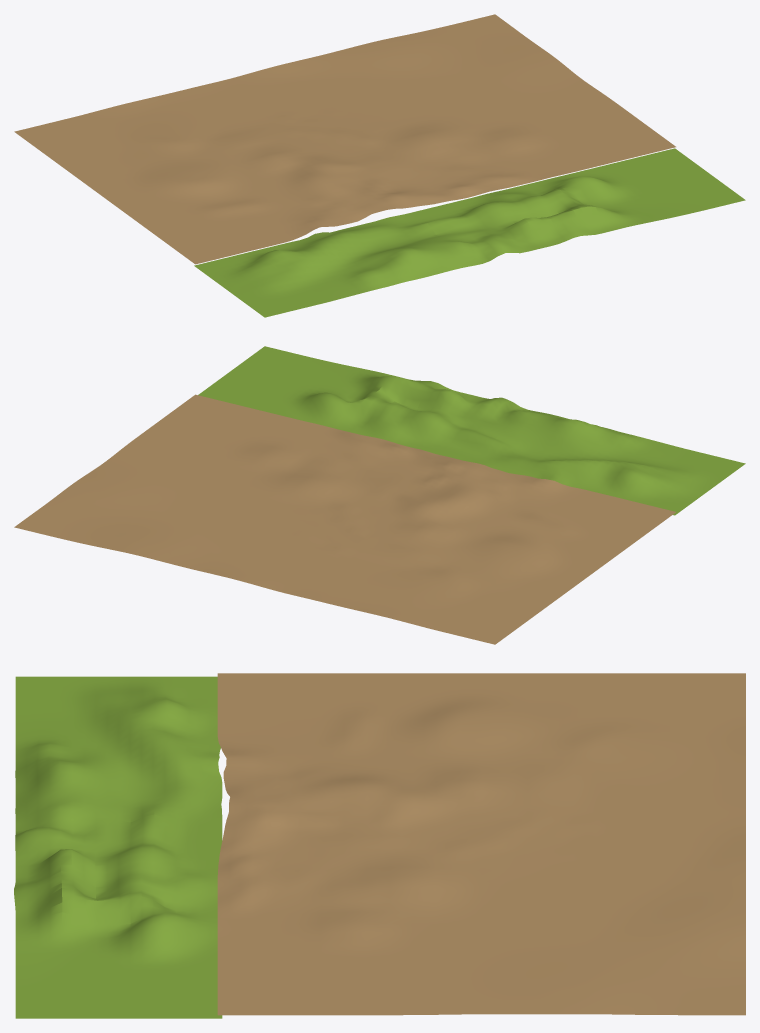
The model's file is terrain.fbx.
The picture shows the model from 3 angles, top to bottom: view 1: azimuth 30°, elevation 25°; view 2: azimuth 150°, elevation 25°; view 3: azimuth 270°, elevation 25°; orthographic projection. The views are drawn at different scales.
Visible parts, largest first — view 1: terrain; view 2: terrain; view 3: terrain.
Part boxes in pixels (bbox=[...]): terrain: bbox=[14, 14, 745, 317]; terrain: bbox=[14, 346, 745, 644]; terrain: bbox=[14, 673, 745, 1018].
Size of the model in its own units: 10580 by 359 by 9572.
